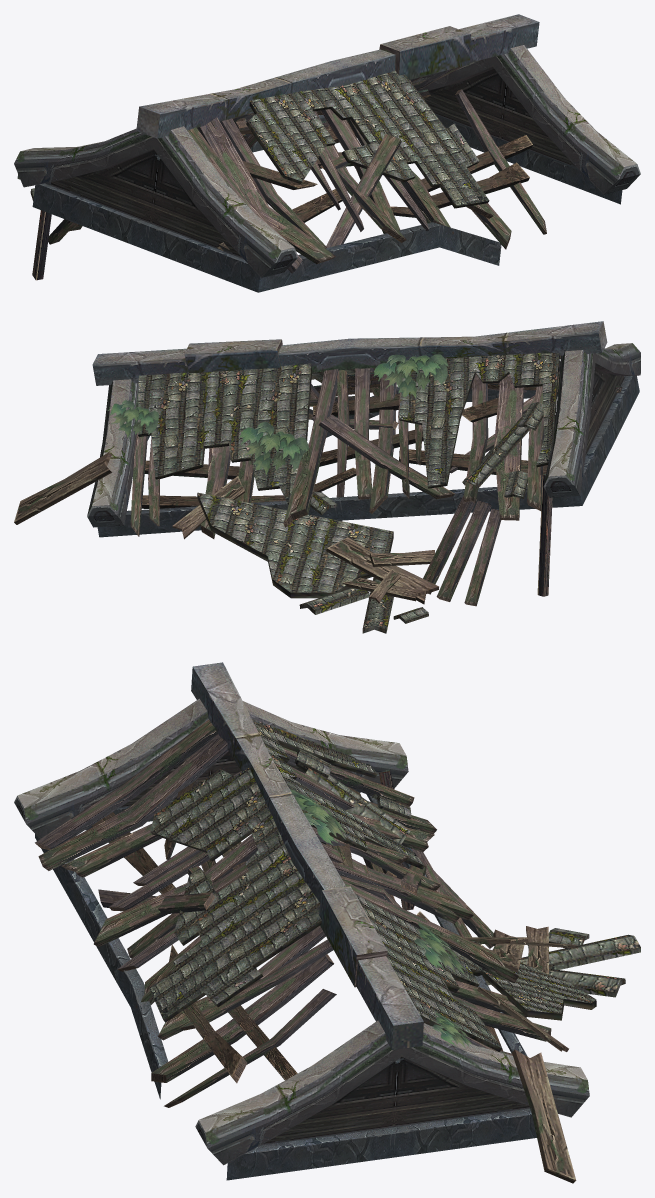
Rendered from Item_6.FBX.
3 views of the same model, one above another, from view 1: azimuth 30°, elevation 25°; view 2: azimuth 150°, elevation 25°; view 3: azimuth 270°, elevation 25° (orthographic). The views are drawn at different scales.
Parts seen in each view (by area): view 1: Ruins_6_A; view 2: Ruins_6_A, Ruins_6_B; view 3: Ruins_6_A, Ruins_6_B.
Part boxes in pixels (x1,y1,x2,y2): Ruins_6_A: [14, 14, 640, 292]; Ruins_6_A: [14, 321, 640, 633]; Ruins_6_B: [107, 354, 448, 475]; Ruins_6_A: [14, 662, 640, 1183]; Ruins_6_B: [290, 789, 471, 1048].
Bounding box in the file's own units: 461 × 183 × 402.
